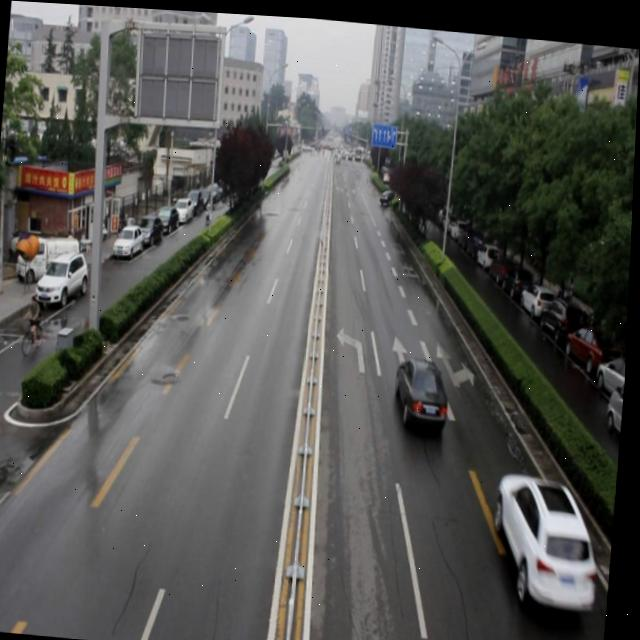car: (491, 460, 608, 612), (394, 351, 454, 426), (379, 182, 395, 200)
